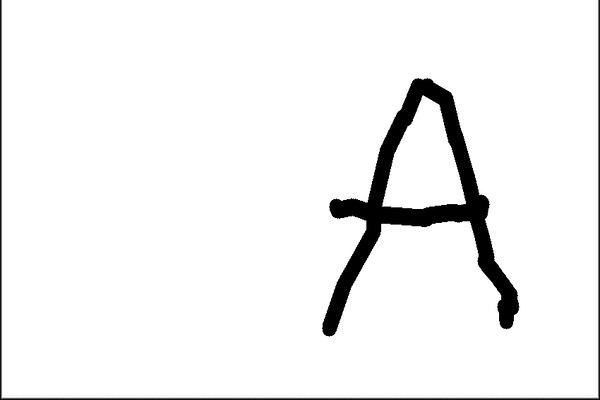A: (284, 73, 529, 352)
